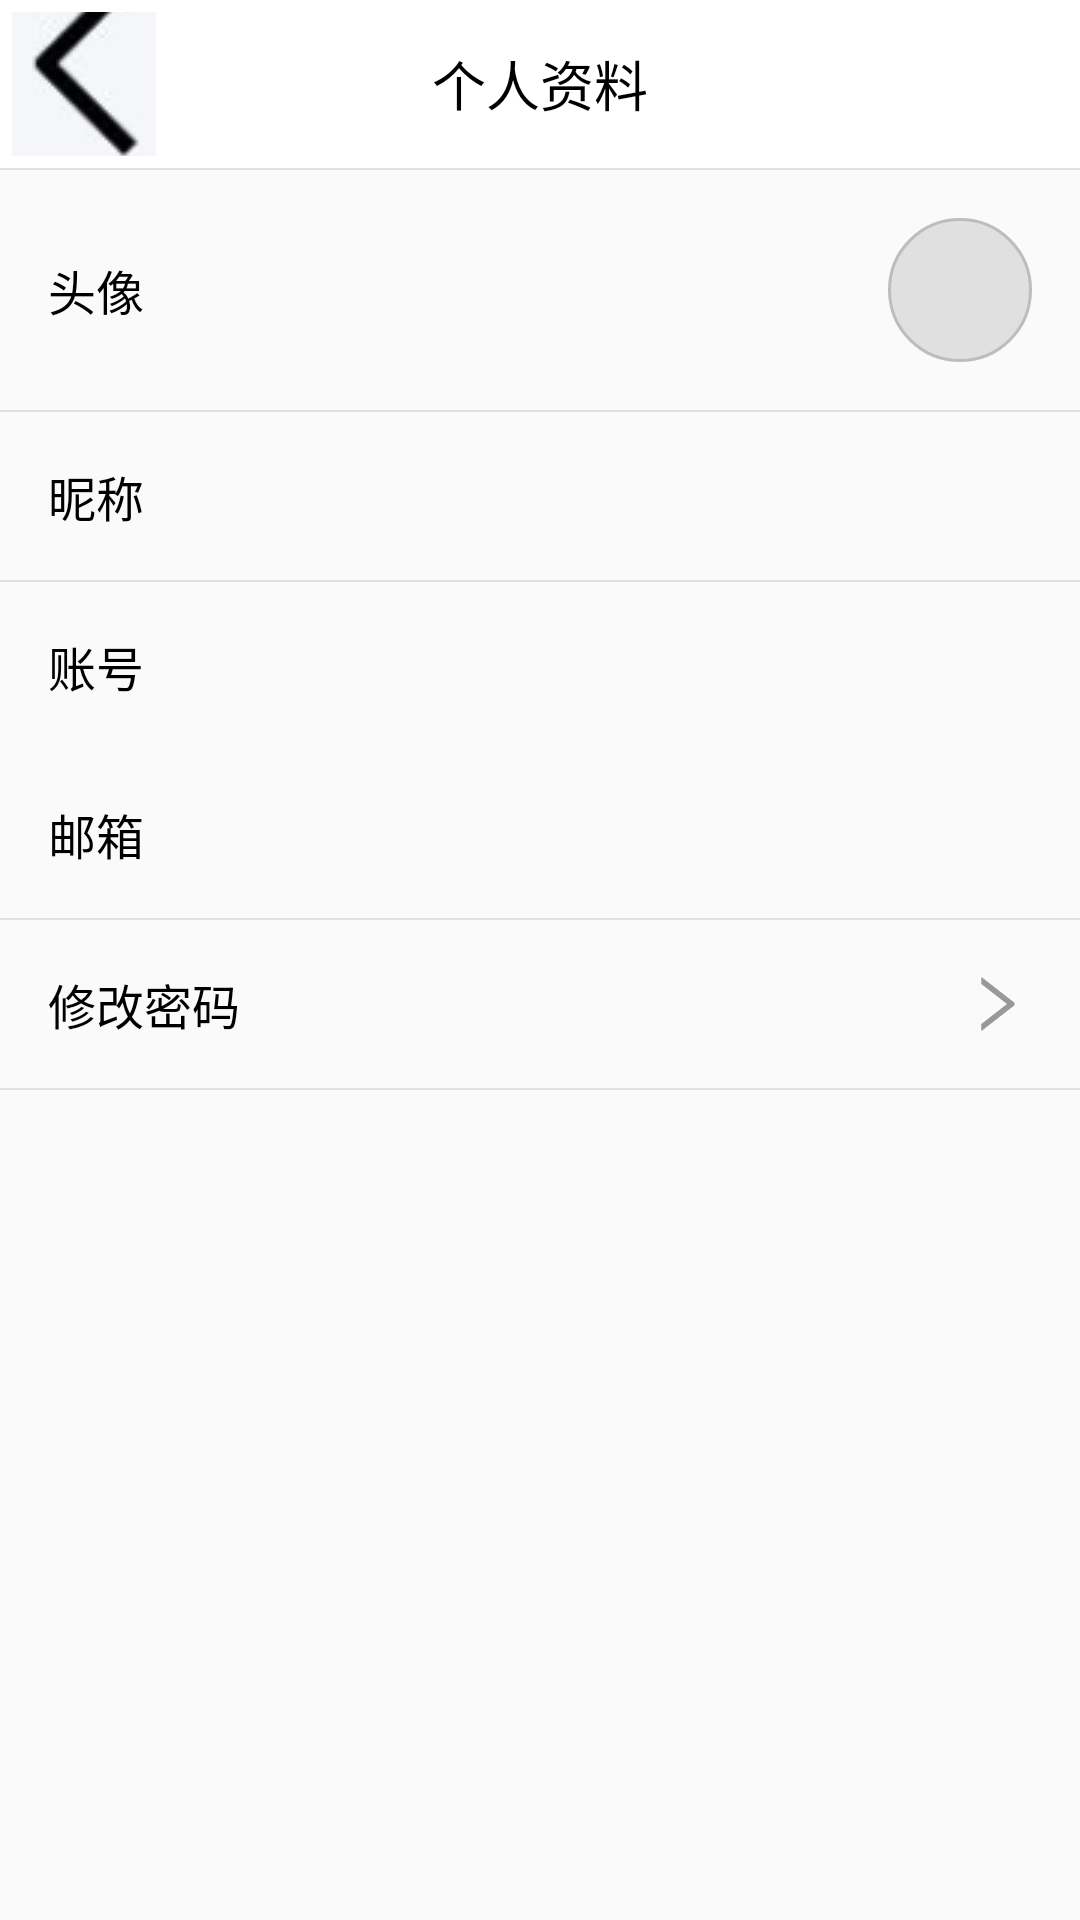

Locate icon controls on the screen. Image size 1080px x 1920px, boxes as (x1, y1, x2, y2).
arrow right: (981, 977, 1015, 1031)
back: (12, 12, 156, 156)
